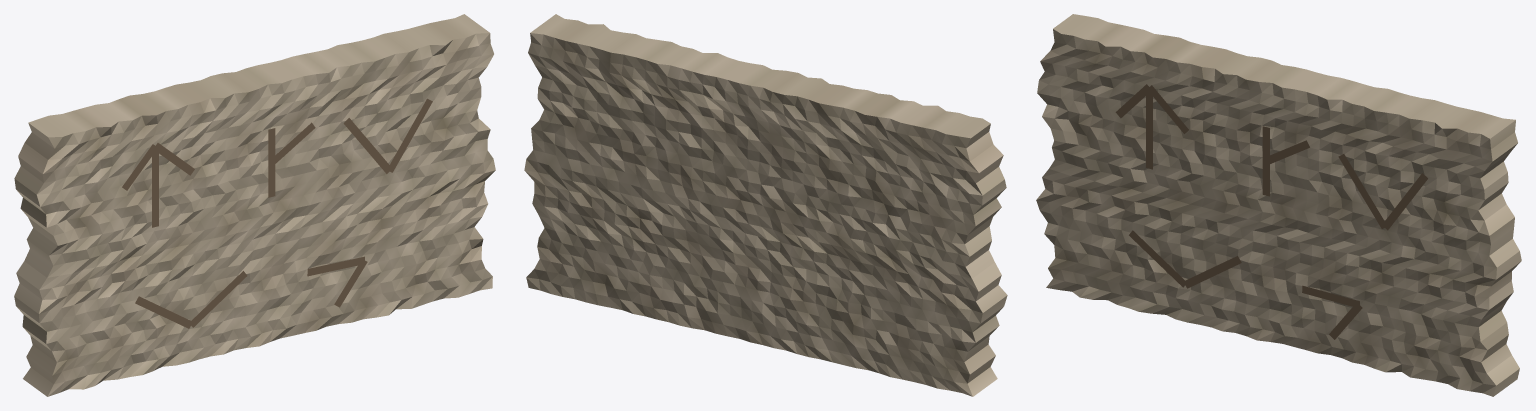
File: inscribed-placa.gltf
3 views of the same model, side by side, from view 1: azimuth 30°, elevation 25°; view 2: azimuth 150°, elevation 25°; view 3: azimuth 330°, elevation 25° (orthographic).
Bounding box in the file's own units: 2.95 × 1.58 × 0.3166.
